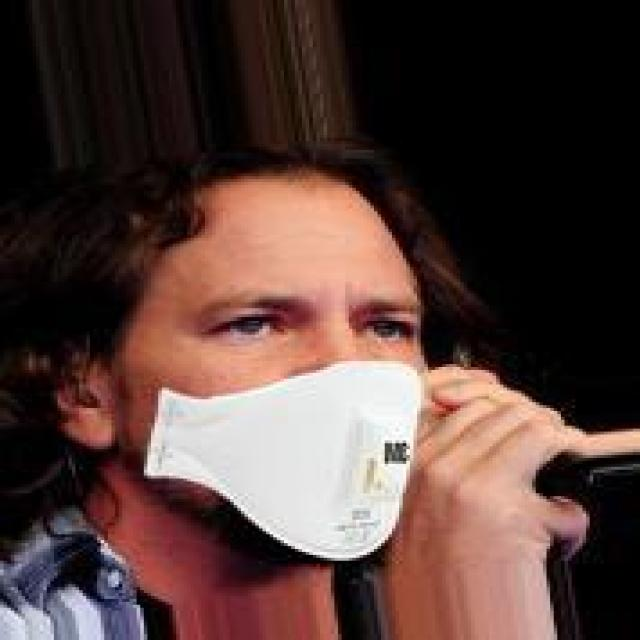mask: (47, 82, 478, 564)
